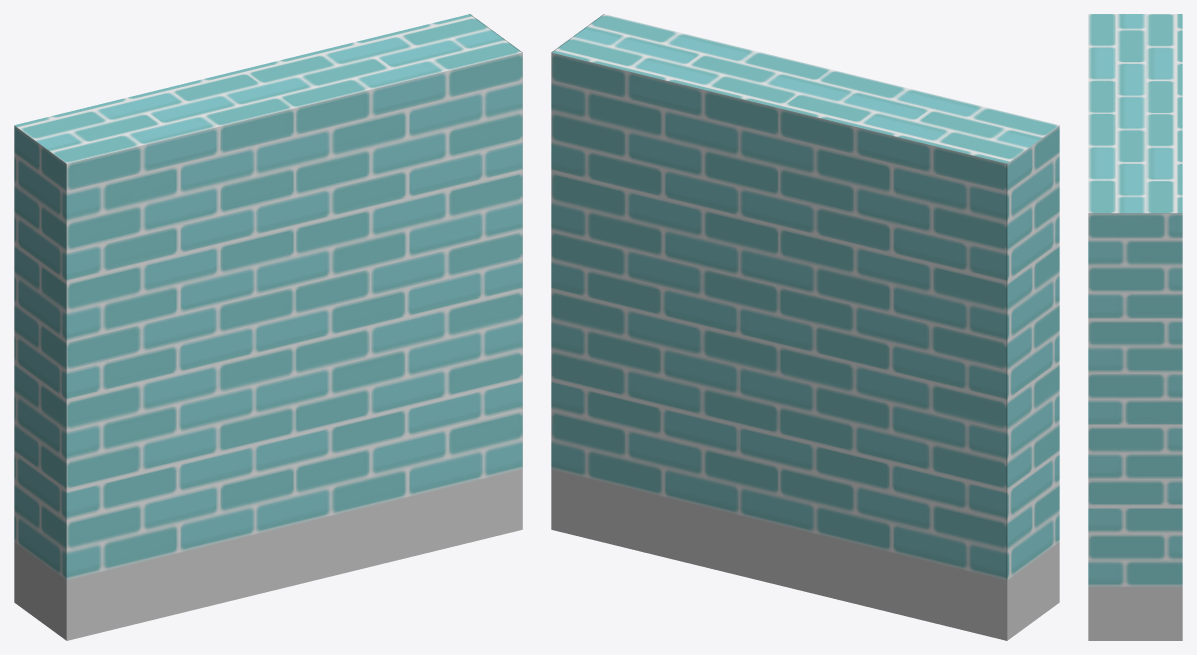
File: BrickWall_Blue.FBX
3 renders of one model, left to right at view 1: azimuth 30°, elevation 25°; view 2: azimuth 150°, elevation 25°; view 3: azimuth 270°, elevation 25°, orthographic. The views are drawn at different scales.
Visible parts, largest first — view 1: Box001; view 2: Box001; view 3: Box001.
Part boxes in pixels (x1,y1,x2,y2): Box001: (14, 14, 522, 640); Box001: (551, 14, 1059, 640); Box001: (1088, 14, 1182, 640).
Bounding box in the file's own units: 2.5 × 2.5 × 0.5.
